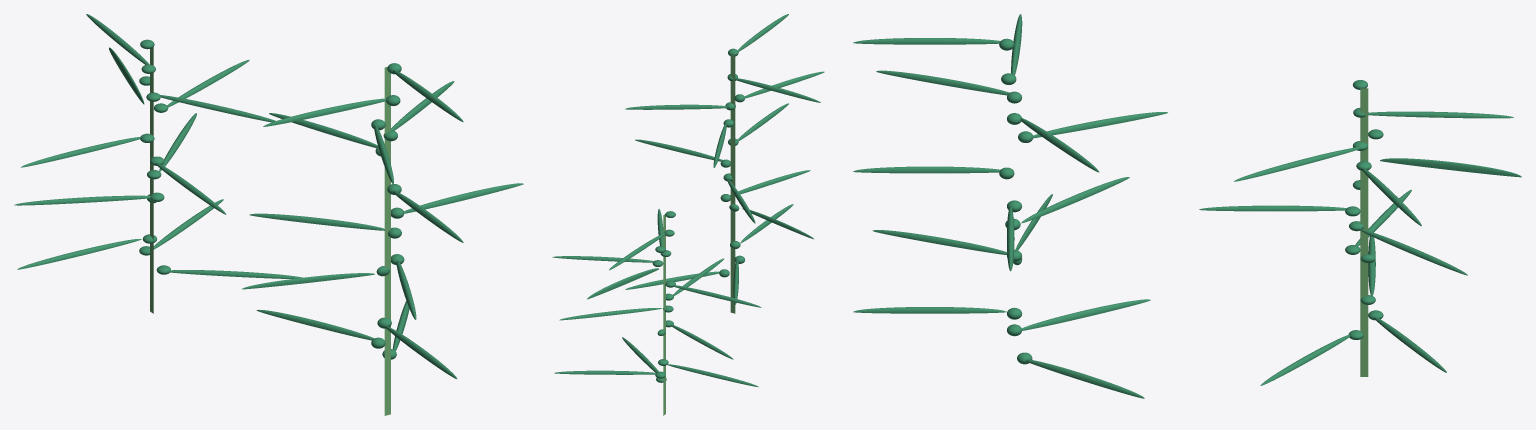
The model's file is Terrific Esboo-Sango (4).glb.
3 views of the same model, side by side, from view 1: azimuth 30°, elevation 25°; view 2: azimuth 150°, elevation 25°; view 3: azimuth 270°, elevation 25° (orthographic). The views are drawn at different scales.
Parts seen in each view (by area): view 1: Mesh_Mesh_head_geo.001_lambert2SG.001; view 2: Mesh_Mesh_head_geo.001_lambert2SG.001; view 3: Mesh_Mesh_head_geo.001_lambert2SG.001.
Part boxes in pixels (bbox=[...]): Mesh_Mesh_head_geo.001_lambert2SG.001: bbox=[14, 14, 523, 415]; Mesh_Mesh_head_geo.001_lambert2SG.001: bbox=[552, 14, 824, 415]; Mesh_Mesh_head_geo.001_lambert2SG.001: bbox=[853, 14, 1521, 398].
Size of the model in its own units: 0.054 by 0.054 by 0.087.
